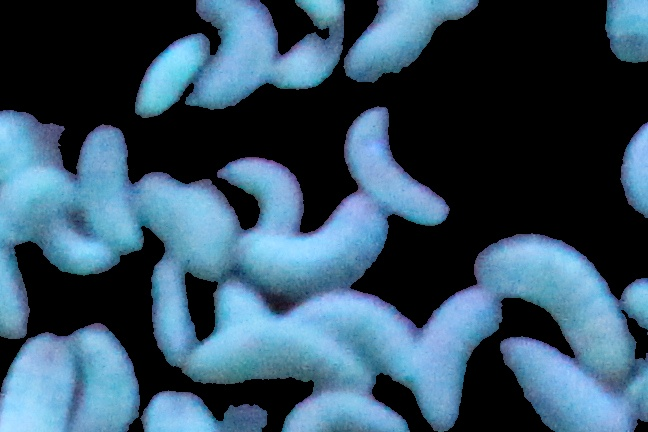larvae: (473, 233, 632, 373), (236, 194, 383, 292), (335, 101, 448, 224), (496, 332, 630, 432), (413, 287, 501, 428), (290, 292, 414, 377), (341, 5, 479, 79), (185, 324, 357, 382), (142, 166, 229, 272), (75, 124, 142, 249), (194, 1, 272, 108), (7, 335, 80, 432), (74, 325, 140, 432), (134, 34, 213, 117), (221, 160, 308, 234), (142, 261, 196, 367), (1, 164, 78, 237), (274, 4, 332, 89), (278, 394, 407, 432), (35, 225, 119, 274)
